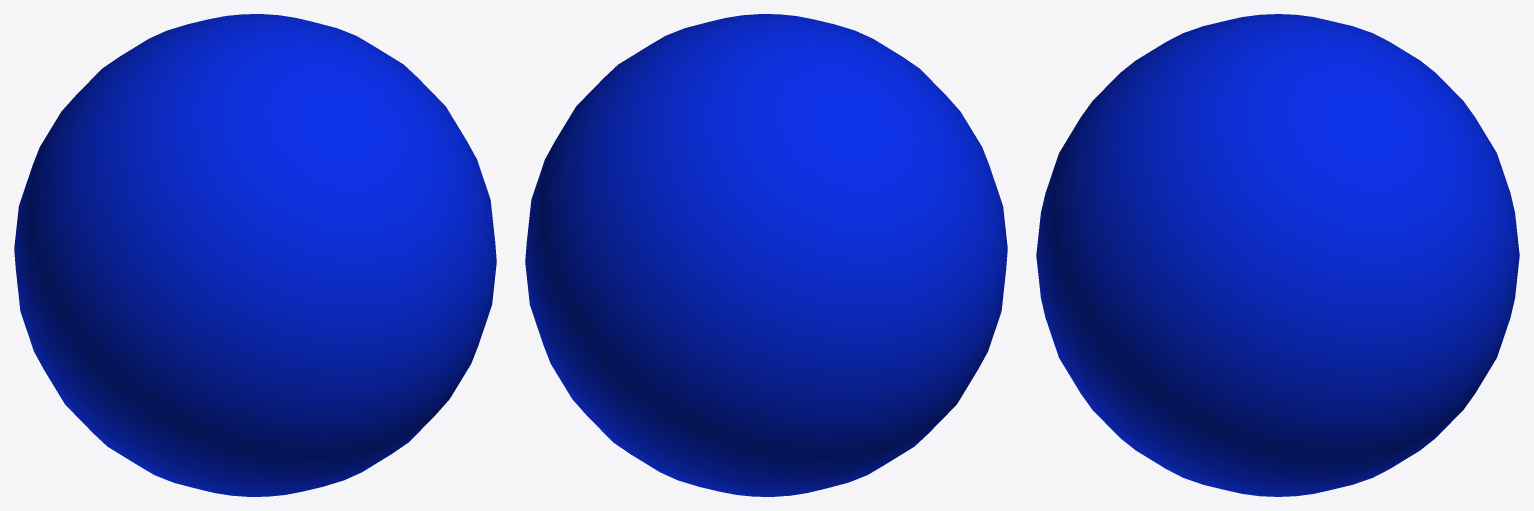
The model's file is Orbe_Circle.fbx.
3 renders of one model, left to right at view 1: azimuth 30°, elevation 25°; view 2: azimuth 150°, elevation 25°; view 3: azimuth 270°, elevation 25°, orthographic.
Visible parts, largest first — view 1: Orbe_Circle; view 2: Orbe_Circle; view 3: Orbe_Circle.
Boxes of the visible parts, x1,y1,x2,y2 form: Orbe_Circle: [14, 14, 496, 496]; Orbe_Circle: [525, 14, 1007, 496]; Orbe_Circle: [1036, 14, 1519, 496].
Bounding box in the file's own units: 200 × 200 × 200.
